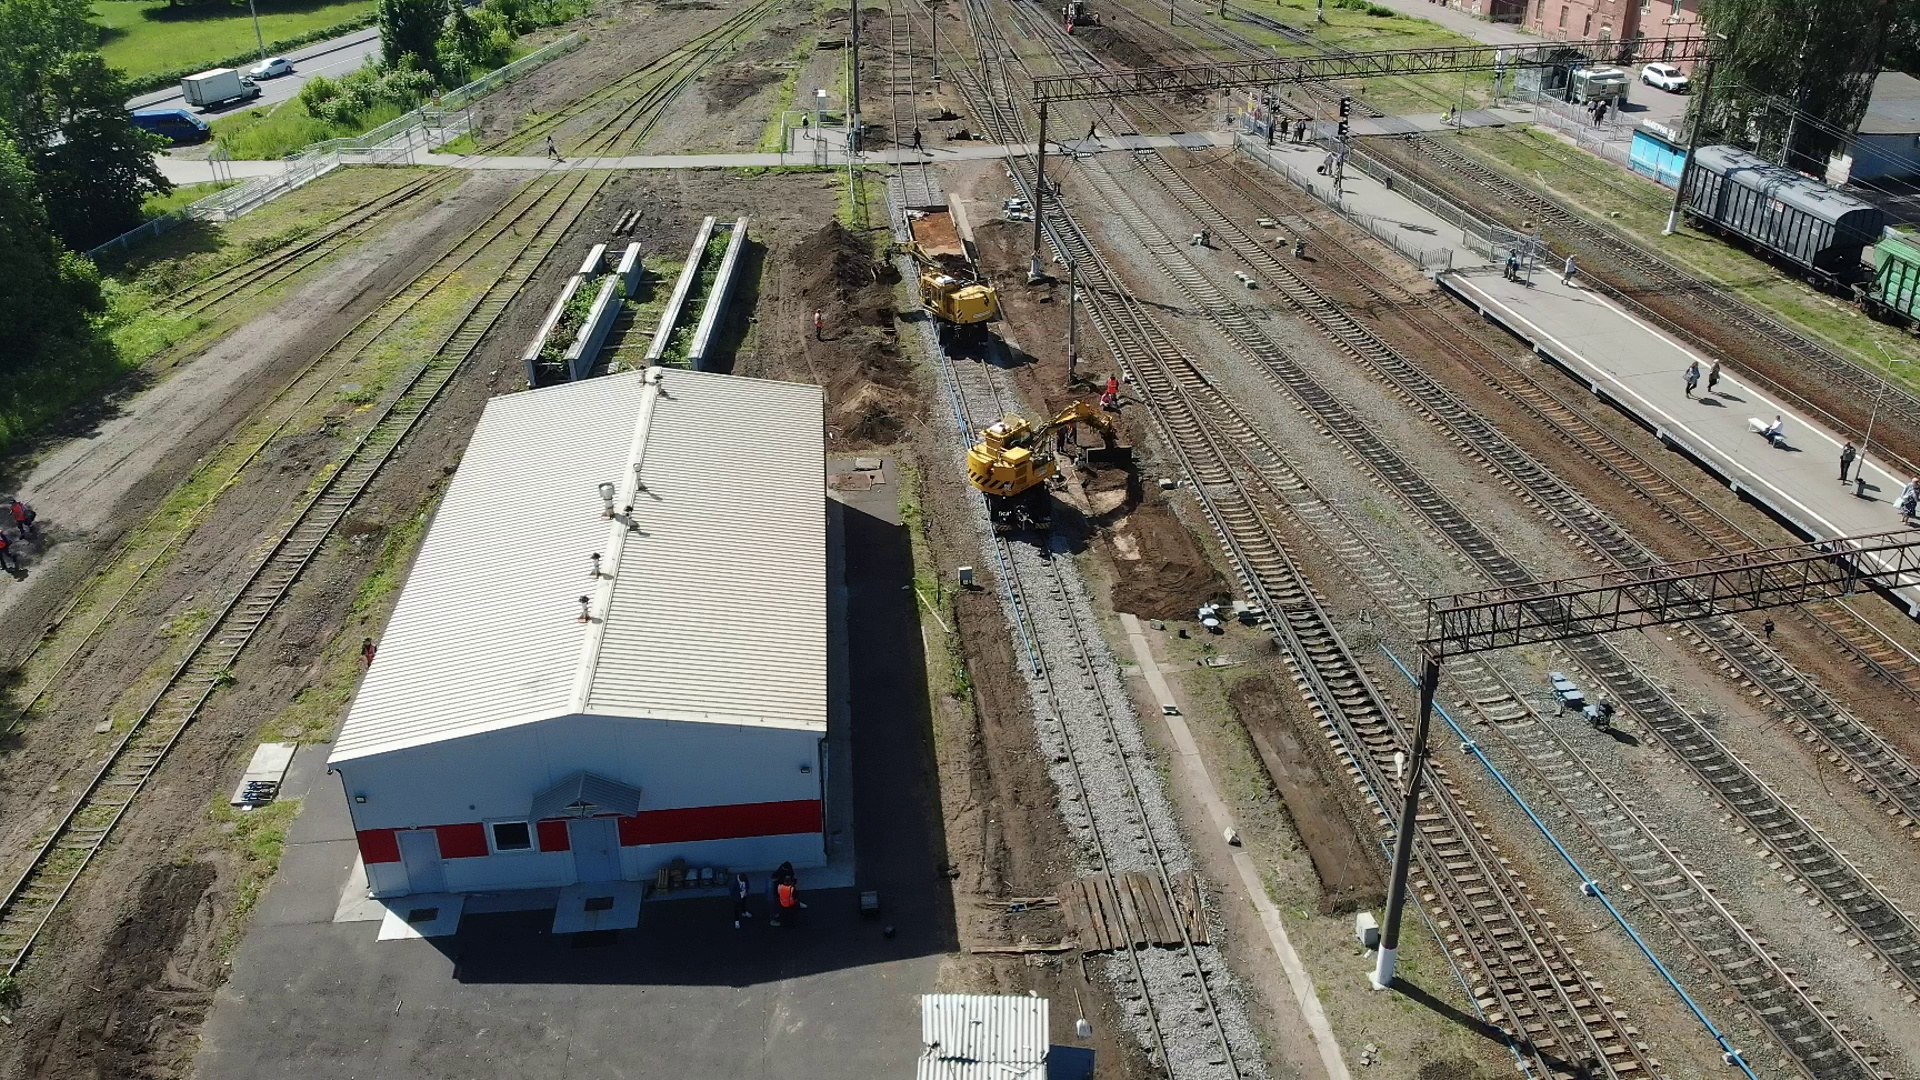kjtv: (962, 397, 1142, 539), (904, 205, 1001, 340)
